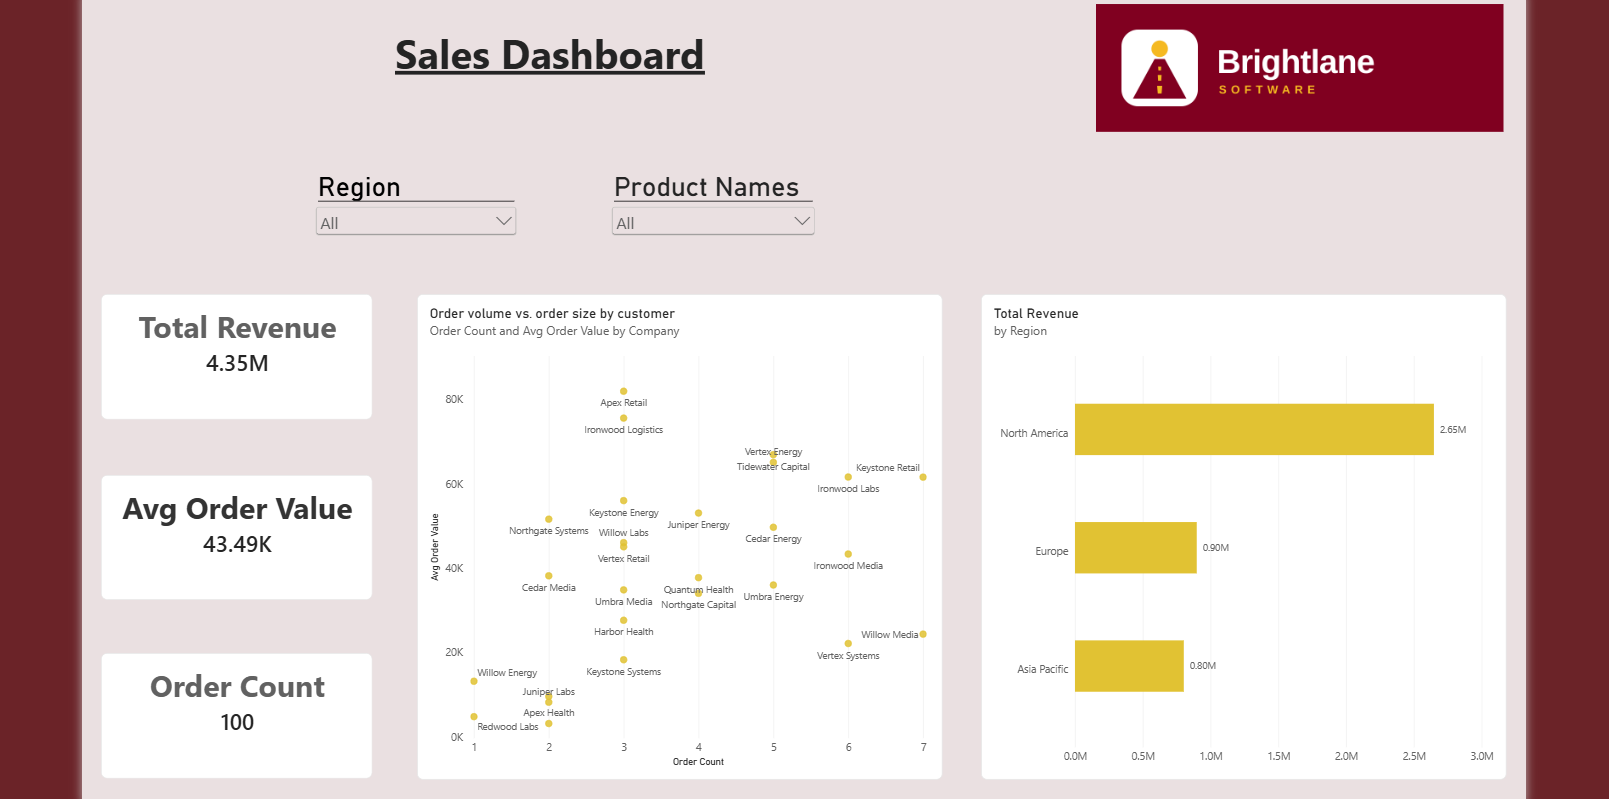

The dashboard page shown, as its layout file describes it:
{"tool":"powerbi","page":{"name":"Page 1","canvas":[1920,1080],"ordinal":0},"visuals":[{"type":"cardVisual","fields":{"Data":["fact_sales_4.Order Count"]},"box":[24.8,879.8,361.8,167.8],"z":1},{"type":"cardVisual","fields":{"Data":["fact_sales_4.Avg Order Value"]},"box":[24.8,641.9,361.8,166.3],"z":2},{"type":"cardVisual","fields":{"Data":["fact_sales_4.Total Revenue"]},"box":[24.8,401.2,361.8,167.8],"z":3},{"type":"clusteredBarChart","fields":{"Category":["dim_customer_1.Contient"],"Y":["fact_sales_4.Total Revenue"]},"box":[1196.4,401.2,698.8,646.3],"z":4},{"type":"scatterChart","title":"Order volume vs. order size by customer","fields":{"Category":["dim_customer_1.Company"],"X":["fact_sales_4.Order Count"],"Y":["fact_sales_4.Avg Order Value"]},"box":[445,401.2,698.8,646.3],"z":5},{"type":"slicer","fields":{"Values":["dim_customer_1.Contient"]},"box":[305.9,236.7,277.2,102.1],"z":6},{"type":"slicer","fields":{"Values":["dim_product.product_name"]},"box":[699.6,236.7,280.1,122.6],"z":7},{"type":"textbox","box":[44,923,281,157],"z":11},{"type":"image","box":[1348.1,0,542,202],"z":12},{"type":"textbox","box":[416.3,43.9,423,168.9],"z":14}]}

Visuals, with their boxes on the page's 1920x1080 design canvas (x1, y1, x2, y2). These are canvas units, not pixel positions in the 1609x799 screenshot, which may show the page scaled, cropped or inside an application window:
cardVisual - fact_sales_4.Order Count: 25/880/387/1048
cardVisual - fact_sales_4.Avg Order Value: 25/642/387/808
cardVisual - fact_sales_4.Total Revenue: 25/401/387/569
clusteredBarChart - dim_customer_1.Contient x fact_sales_4.Total Revenue: 1196/401/1895/1048
"Order volume vs. order size by customer" scatterChart: 445/401/1144/1048
slicer - dim_customer_1.Contient: 306/237/583/339
slicer - dim_product.product_name: 700/237/980/359
textbox: 44/923/325/1080
image: 1348/0/1890/202
textbox: 416/44/839/213
